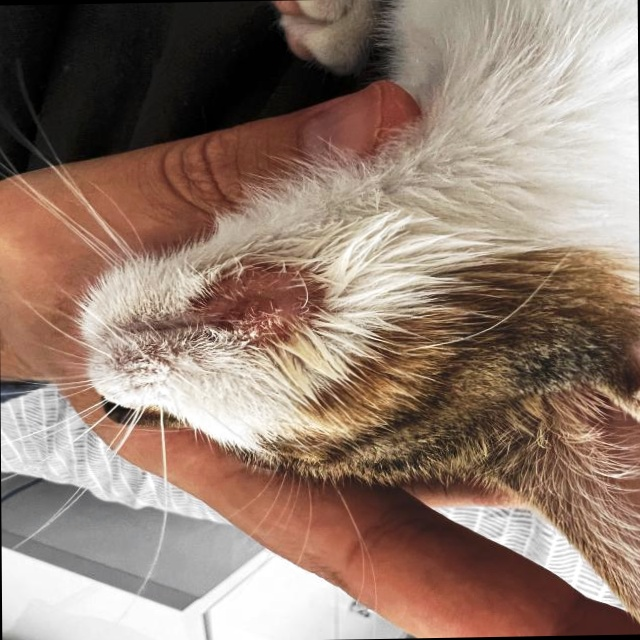ringworm: (209, 258, 337, 344)
